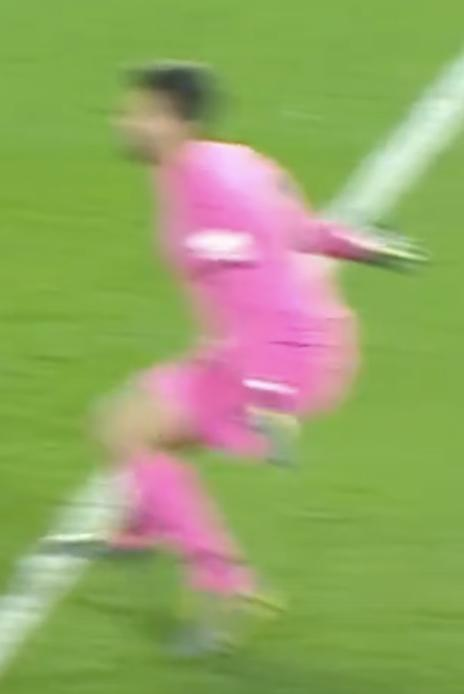goalkeeper: (40, 35, 456, 694)
